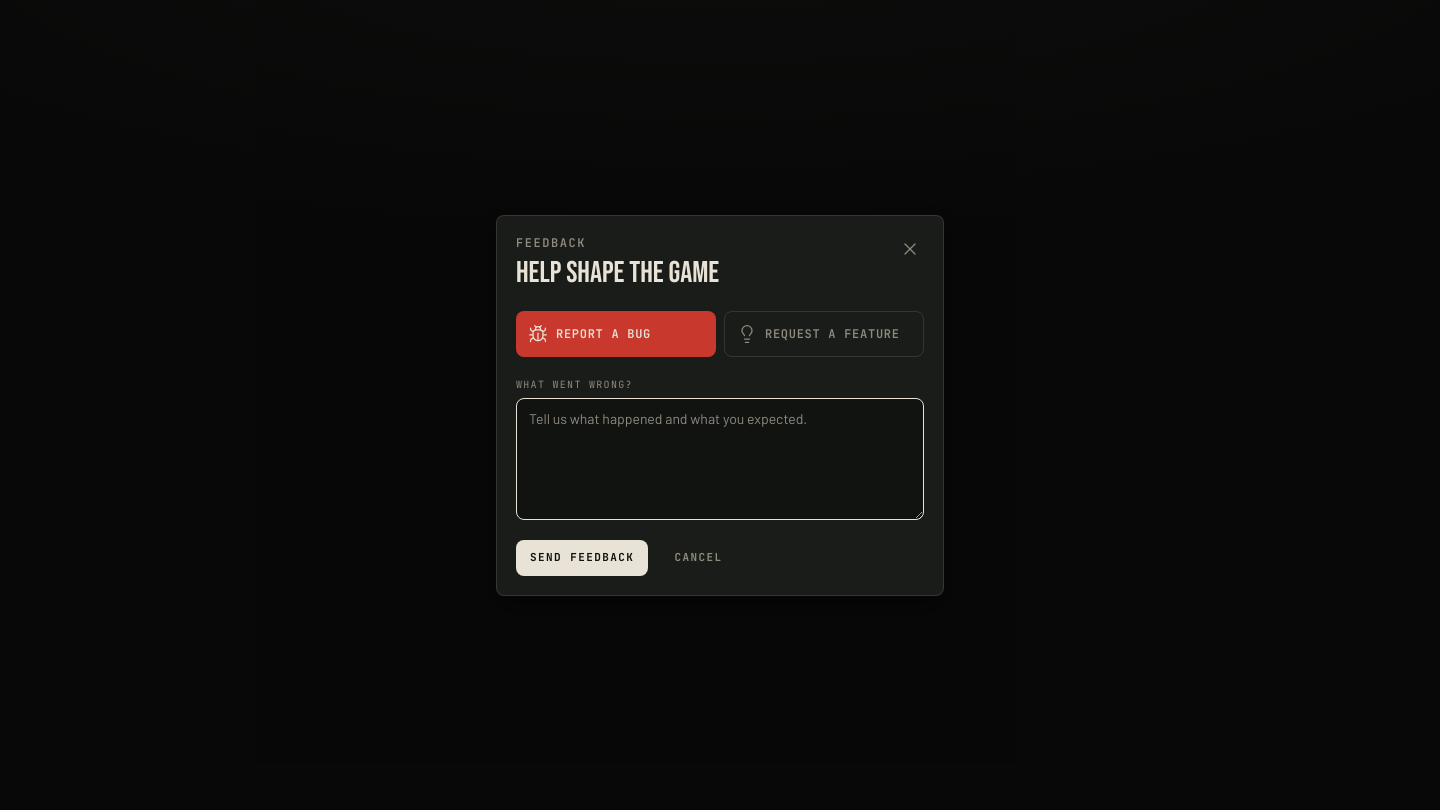
FeedbackModal › switches the prompt to match a feature request
Click the button "Request a feature": click(824, 334) [724,310,924,356]
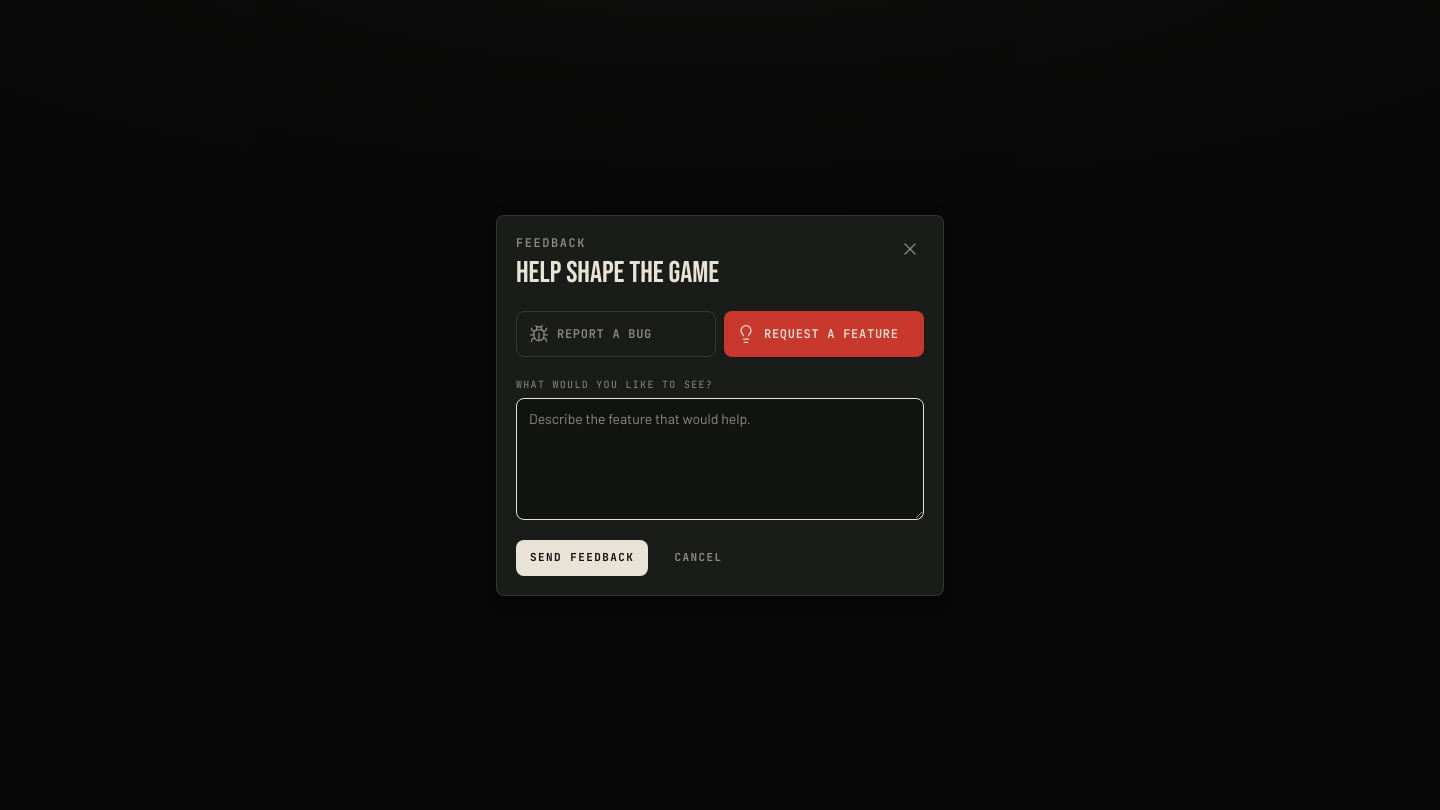
Expected: the text "What would you like to see?" is shown, [516,378,713,390]
Expected: the text box with placeholder "Describe the feature that would help." is shown, [516,398,924,520]
